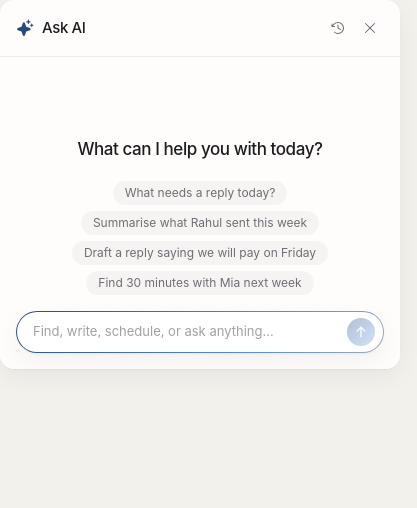
Test case: AskPanel › streams a turn: the progress line, an email list from the inbox API, a card with its source, then the stored answer
The width and height of the screenshot is (417, 508).
Type "Find time with Mia" into the text box named "Message". click: (187, 332)
box: [33,318,341,346]
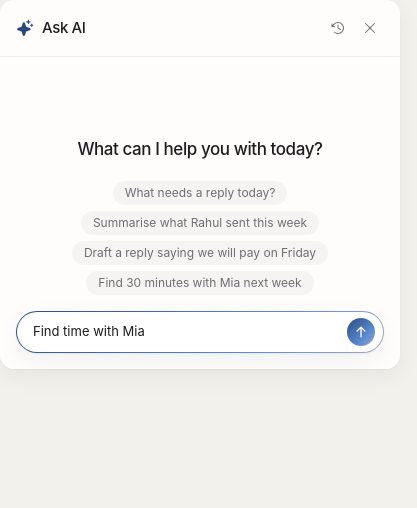
Click the button named "Send". click: (361, 332)
box: [347,318,375,346]
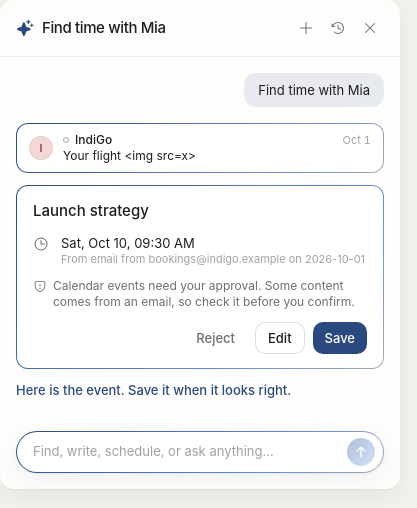
Result: the text "Here is the event. Save it when it looks right." is shown at [16,382,291,398]
Result: the heading "Find time with Mia" is shown at [42,18,166,37]
Result: the heading "What can I help you with today?" is gone
